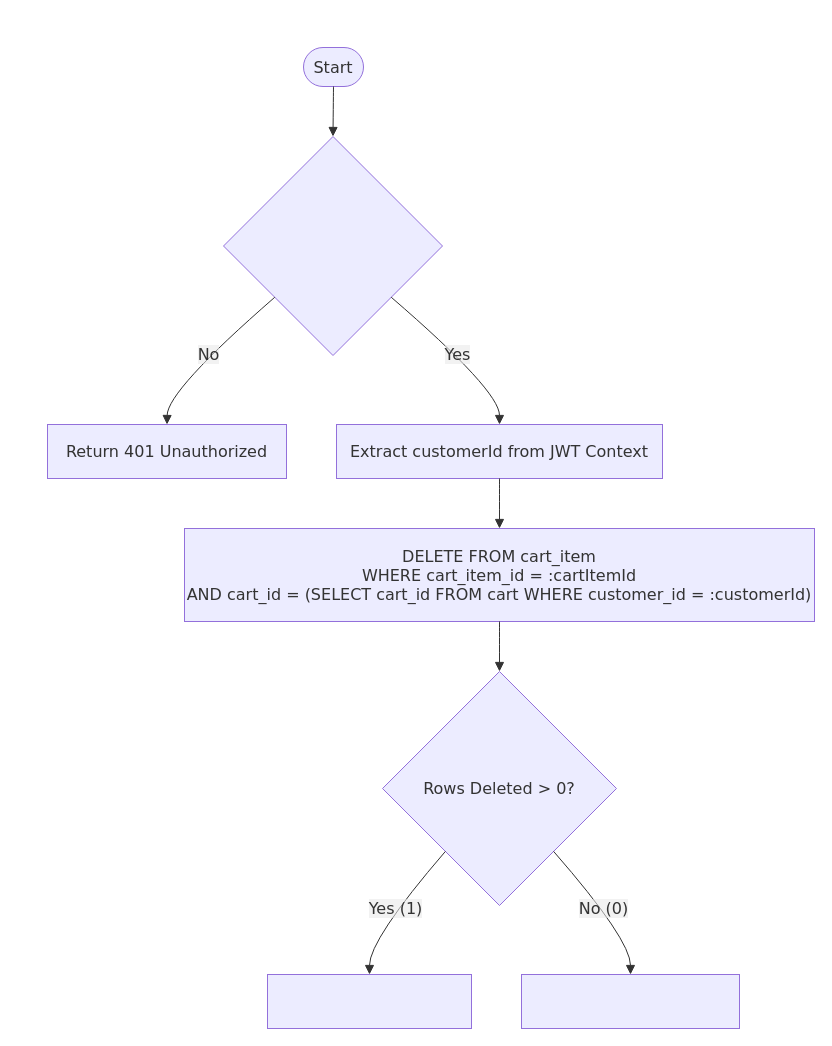
The diagram is 832 pixels wide and 1046 high, and some of its shapes have lost their labels. Each missing label, with the centre of its shape:
Return 200 Success: (369,1001)
Return 404 Not Found: (630,1001)
Valid JWT Token?: (332,246)
